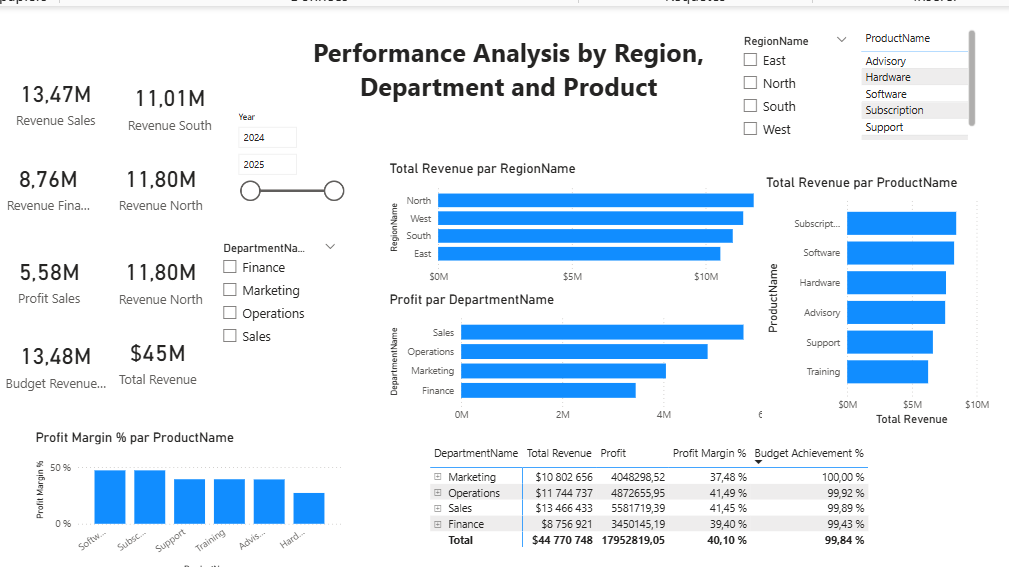

What the dashboard file says about the page in this screenshot:
{"tool":"powerbi","page":{"name":"Analysis by Dimension","canvas":[1280,720],"ordinal":2},"visuals":[{"type":"card","fields":{"Values":["Measures (2).Revenue Sales"]},"box":[0,69.9,139.8,98.3],"z":0},{"type":"card","fields":{"Values":["Measures (2).Revenue Finance"]},"box":[0,173.9,120.9,103.9],"z":1000},{"type":"card","fields":{"Values":["Measures (2).Revenue North"]},"box":[136.1,292.9,132.3,102],"z":2000},{"type":"card","fields":{"Values":["Measures (2).Revenue South"]},"box":[139.8,69.9,147.4,109.6],"z":3000},{"type":"card","fields":{"Values":["Measures (2).Profit Sales"]},"box":[0,291,122.8,103.9],"z":4000},{"type":"card","fields":{"Values":["Measures (2).Budget Revenue Sales"]},"box":[0,404.4,139.8,90.7],"z":5000},{"type":"card","fields":{"Values":["Measures (2).Total Revenue"]},"box":[136.1,395,124.7,100.2],"z":6000},{"type":"card","fields":{"Values":["Measures (2).Revenue North"]},"box":[138,168.2,128.5,115.3],"z":7000},{"type":"slicer","fields":{"Values":["Dim_Region.RegionName"]},"box":[924.1,30.2,155,204.1],"z":8000},{"type":"pivotTable","fields":{"Rows":["Dim_Department.DepartmentName","Dim_Region.RegionName"],"Values":["Measures (2).Total Revenue","Measures (2).Profit","Measures (2).Profit Margin %","Measures (2).Budget Achievement %"]},"box":[536.7,548,619.8,172],"z":9000},{"type":"slicer","fields":{"Values":["Dim_Date_Calendar.Year"]},"box":[287.2,128.5,155,149.3],"z":10000},{"type":"slicer","fields":{"Values":["Dim_Department.DepartmentName"]},"box":[268.3,291,166.3,219.2],"z":11000},{"type":"tableEx","fields":{"Values":["Dim_Product.ProductName"]},"box":[1079.1,24.6,155,149.3],"z":12000},{"type":"barChart","fields":{"Category":["Dim_Region.RegionName"],"Y":["Measures (2).Total Revenue"]},"box":[485.7,194.6,491.3,164.4],"z":13000},{"type":"barChart","fields":{"Category":["Dim_Department.DepartmentName"],"Y":["Measures (2).Profit"]},"box":[485.7,359.1,491.3,173.9],"z":14000},{"type":"barChart","fields":{"Category":["Dim_Product.ProductName"],"Y":["Measures (2).Total Revenue"]},"box":[960,211.7,291,321.3],"z":15000},{"type":"columnChart","fields":{"Category":["Dim_Product.ProductName"],"Y":["Measures (2).Profit Margin %"]},"box":[39.7,532.9,395,187.1],"z":16000},{"type":"textbox","box":[385.5,30.2,510.2,138],"z":16001}]}

Visuals, with their boxes on the page's 1280x720 design canvas (x1, y1, x2, y2). These are canvas units, not pixel positions in the 1009x567 screenshot, which may show the page scaled, cropped or inside an application window:
card - Measures (2).Revenue Sales: locate(0, 70, 140, 168)
card - Measures (2).Revenue Finance: locate(0, 174, 121, 278)
card - Measures (2).Revenue North: locate(136, 293, 268, 395)
card - Measures (2).Revenue South: locate(140, 70, 287, 180)
card - Measures (2).Profit Sales: locate(0, 291, 123, 395)
card - Measures (2).Budget Revenue Sales: locate(0, 404, 140, 495)
card - Measures (2).Total Revenue: locate(136, 395, 261, 495)
card - Measures (2).Revenue North: locate(138, 168, 266, 284)
slicer - Dim_Region.RegionName: locate(924, 30, 1079, 234)
pivotTable - Dim_Department.DepartmentName x Dim_Region.RegionName: locate(537, 548, 1156, 720)
slicer - Dim_Date_Calendar.Year: locate(287, 128, 442, 278)
slicer - Dim_Department.DepartmentName: locate(268, 291, 435, 510)
tableEx - Dim_Product.ProductName: locate(1079, 25, 1234, 174)
barChart - Dim_Region.RegionName x Measures (2).Total Revenue: locate(486, 195, 977, 359)
barChart - Dim_Department.DepartmentName x Measures (2).Profit: locate(486, 359, 977, 533)
barChart - Dim_Product.ProductName x Measures (2).Total Revenue: locate(960, 212, 1251, 533)
columnChart - Dim_Product.ProductName x Measures (2).Profit Margin %: locate(40, 533, 435, 720)
textbox: locate(386, 30, 896, 168)
